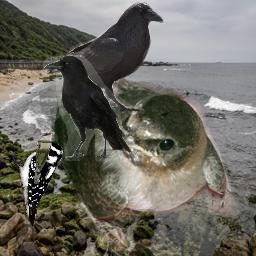Crow: (45, 1, 165, 111), (43, 55, 132, 161)
Cuckoo: (34, 132, 55, 184)
Swallow: (27, 73, 231, 256)
Woodpecker: (11, 142, 63, 229)
